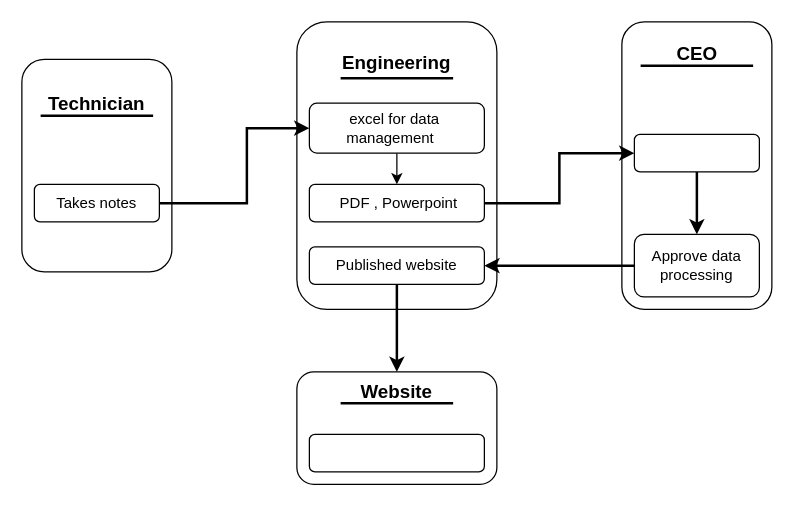
Some shapes in this 794 by 506 pixel diagram are drawn without their labels. The shapes that lost their labels are listed below. From the top down, each one's box as (x1, y1, x2, y2) in pixels, then its label:
(633, 133, 759, 172): consider
(308, 433, 484, 472): https://green.wu.ac.th/
